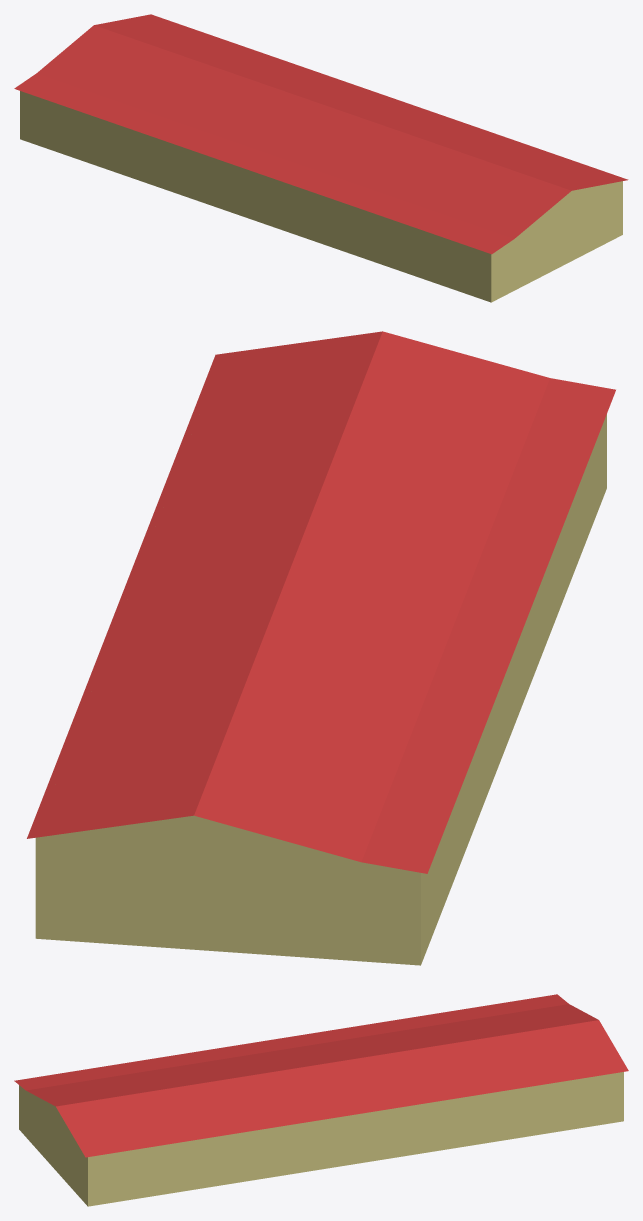
3 renders of one model, top to bottom at view 1: azimuth 30°, elevation 25°; view 2: azimuth 150°, elevation 25°; view 3: azimuth 270°, elevation 25°, orthographic. The views are drawn at different scales.
Bounding box in the file's own units: 49.64 × 77.34 × 9.54.
